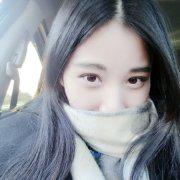WRONG: (64, 55, 154, 145)
